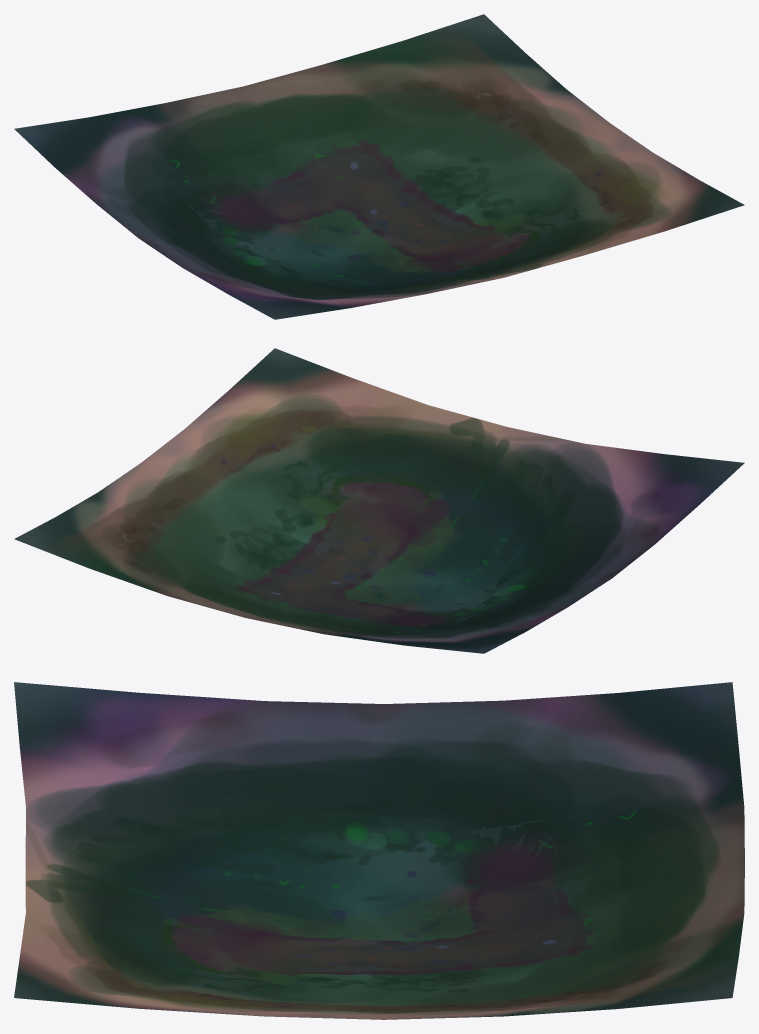
Rendered from Ilha.fbx.
3 views of the same model, one above another, from view 1: azimuth 30°, elevation 25°; view 2: azimuth 150°, elevation 25°; view 3: azimuth 270°, elevation 25° (orthographic). The views are drawn at different scales.
Visible parts, largest first — view 1: Ilha; view 2: Ilha; view 3: Ilha.
Boxes of the visible parts, bbox=[...] form: Ilha: bbox=[14, 14, 744, 319]; Ilha: bbox=[14, 348, 744, 653]; Ilha: bbox=[14, 682, 744, 1019].
Bounding box in the file's own units: 1195 × 1164 × 181.
